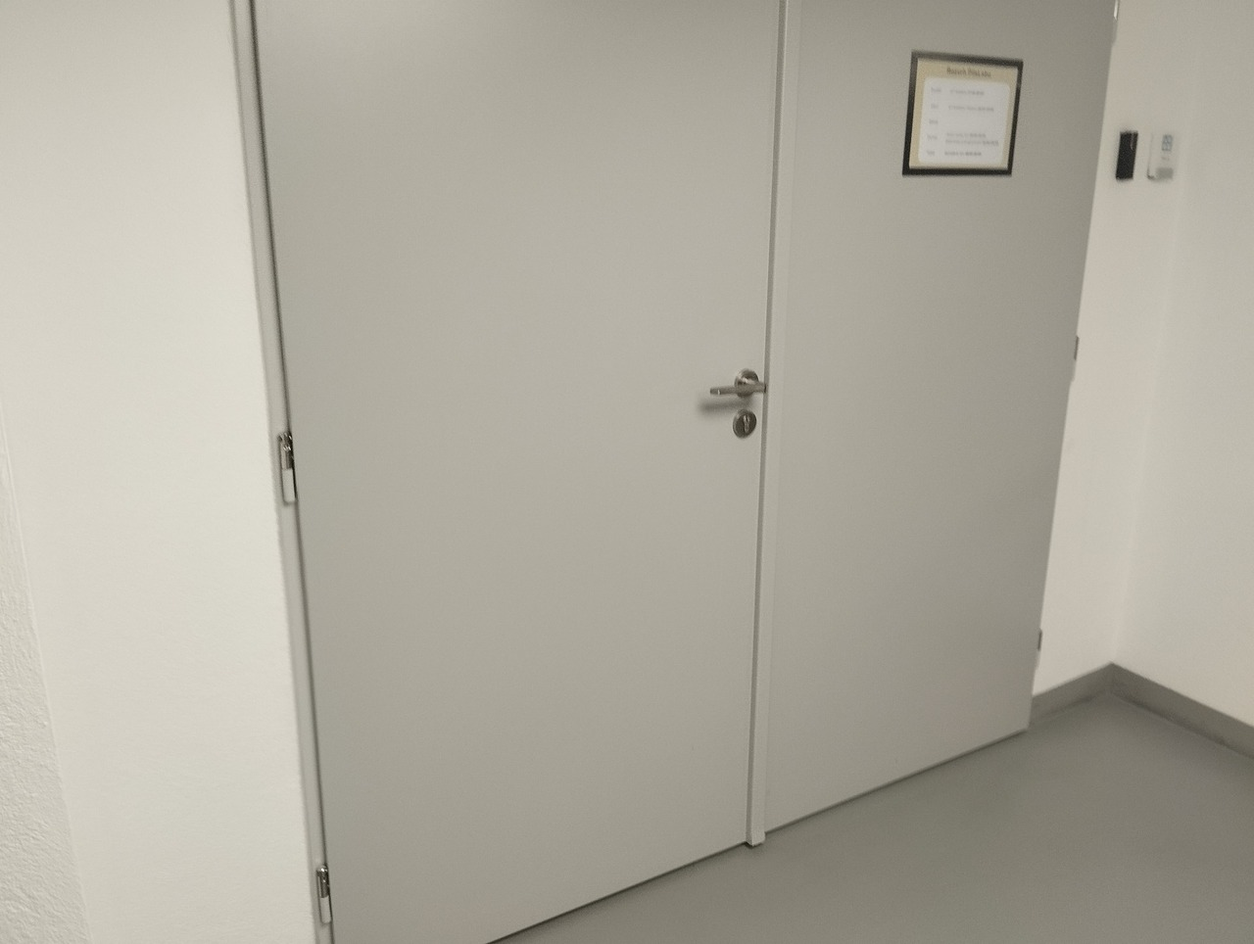Door-handle: (697, 368, 766, 398), (275, 428, 298, 503)
